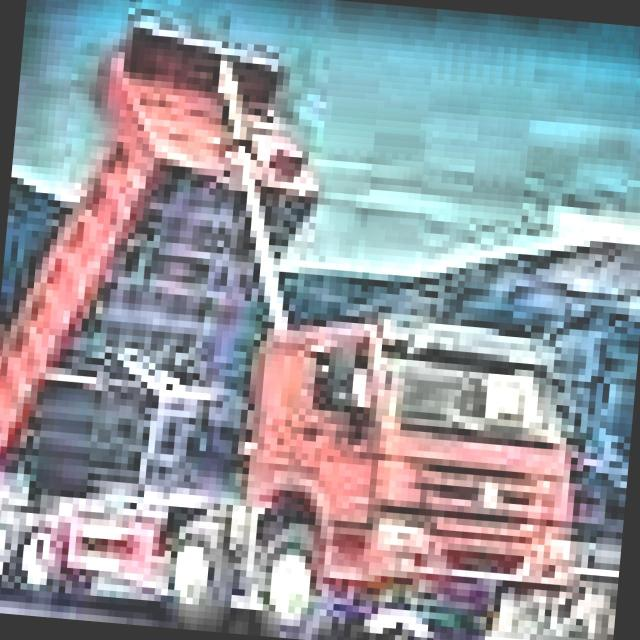dump_truck: (0, 7, 624, 640)
